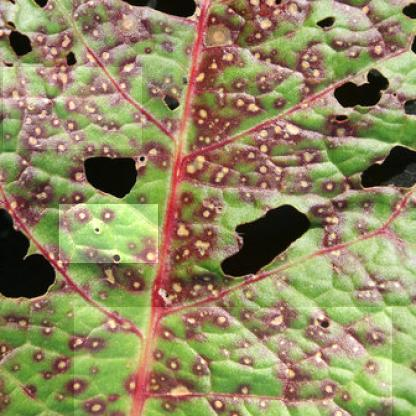black-spot: (74, 307, 392, 416), (173, 46, 332, 192), (3, 67, 142, 149), (59, 204, 158, 263)
